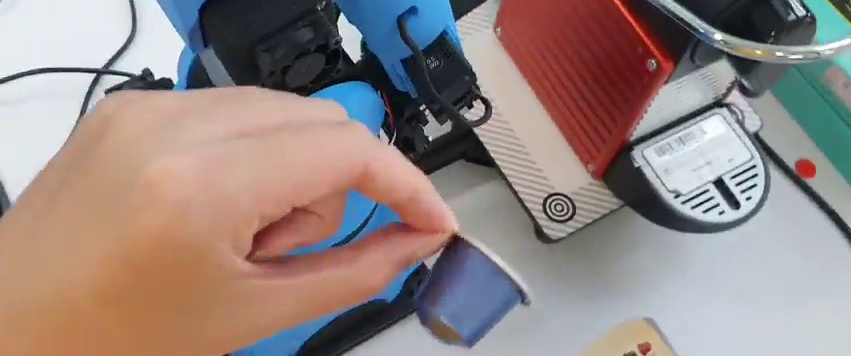capsule_7: (411, 226, 534, 347)
